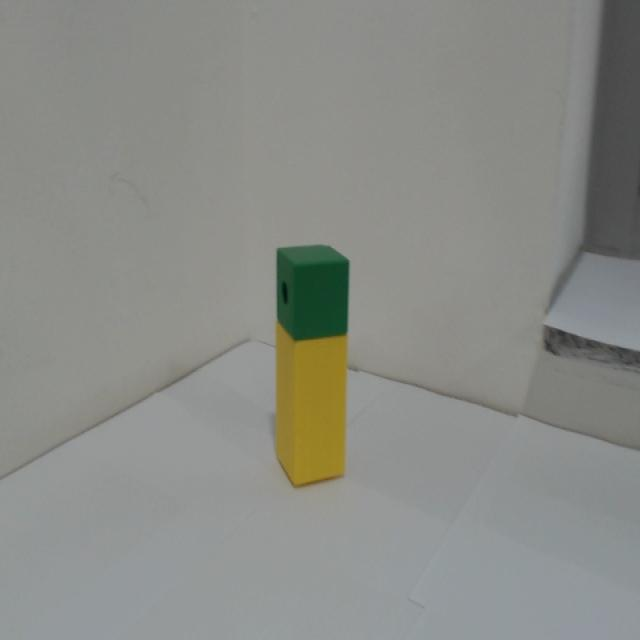cube: (275, 241, 352, 343)
